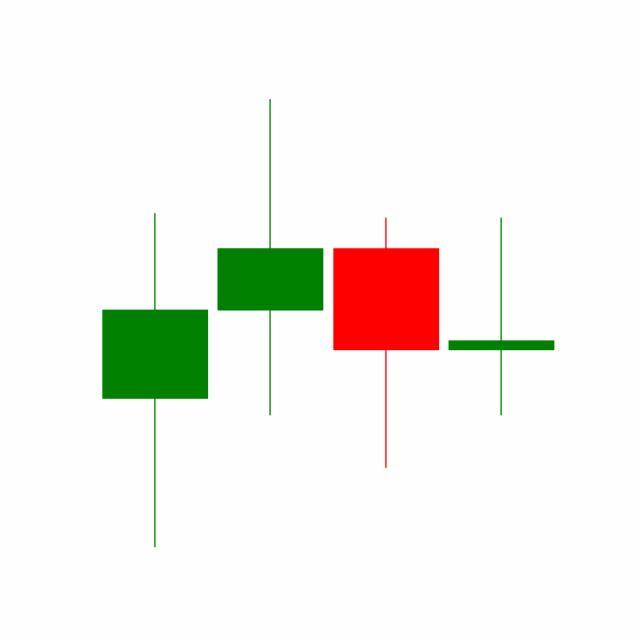Spinning Top: (444, 216, 560, 419)
